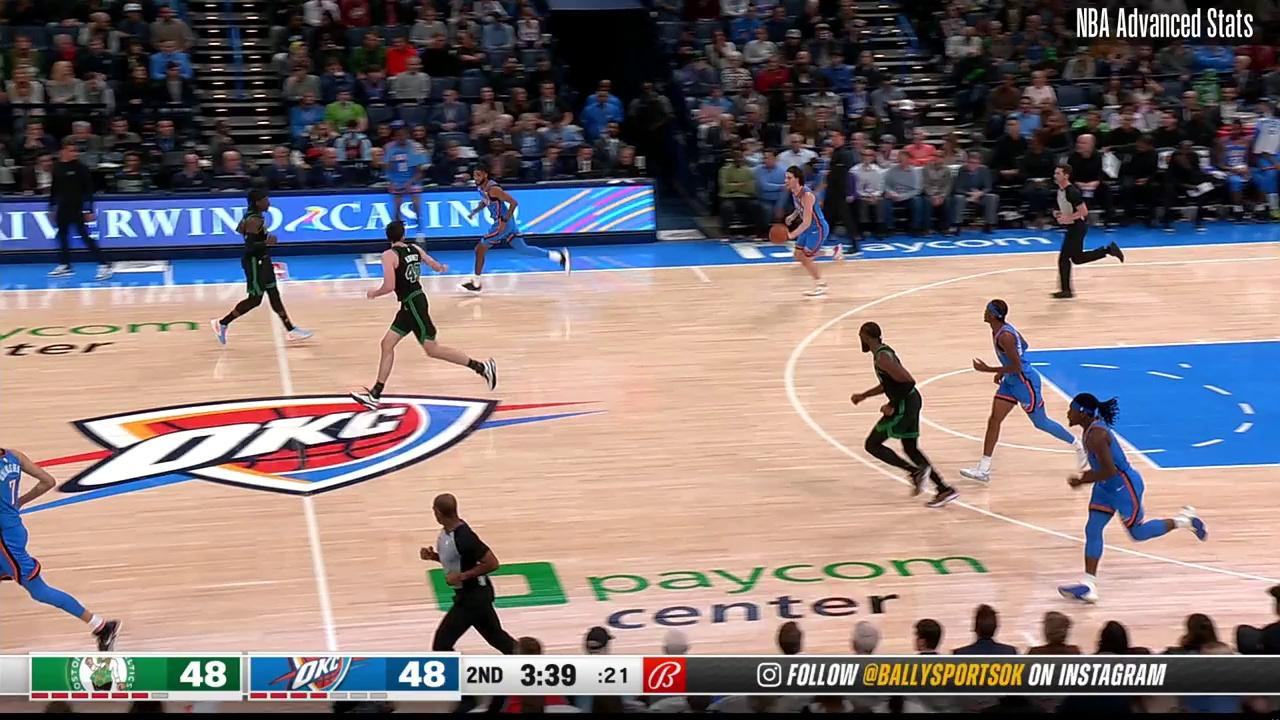free_adx: (1152, 461, 1164, 473)
mid_dx: (1019, 628, 1031, 637)
mid_sx: (698, 275, 712, 287)
referee: (420, 490, 523, 656), (1052, 163, 1124, 296)
team: (345, 220, 496, 412), (850, 320, 957, 508), (213, 190, 313, 349)
team1: (1057, 393, 1208, 603), (0, 442, 123, 653), (963, 294, 1090, 482), (462, 164, 571, 303), (775, 163, 846, 302)
timer: (512, 658, 585, 693)
